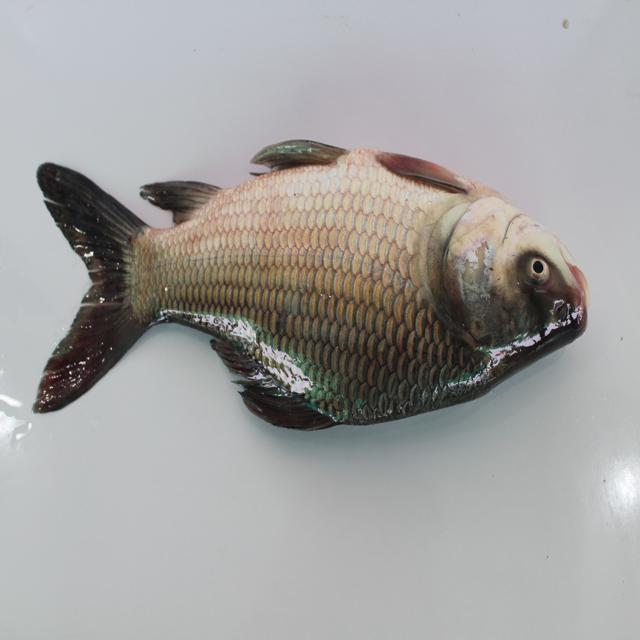Catla: (33, 138, 590, 428)
